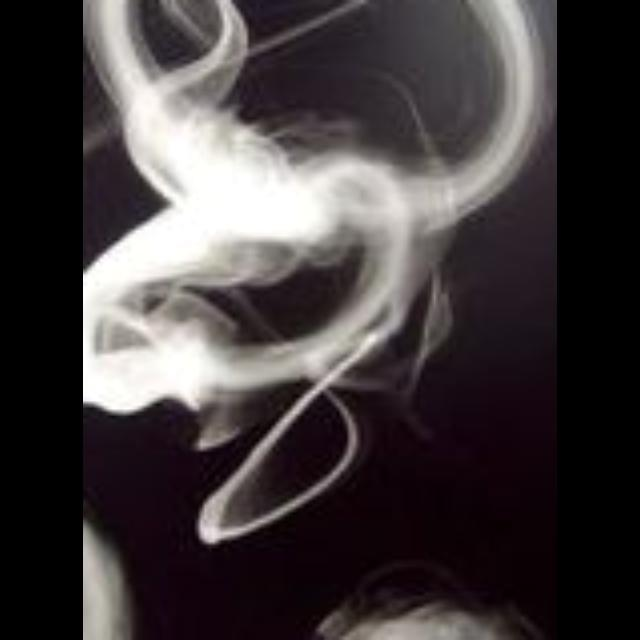smoke: (83, 0, 548, 413)
